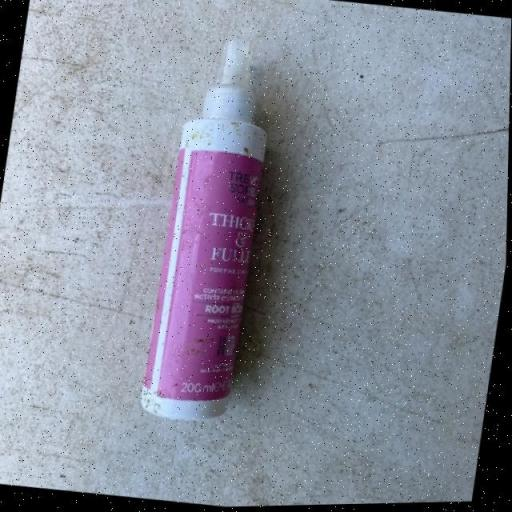plastic: (138, 32, 283, 426)
